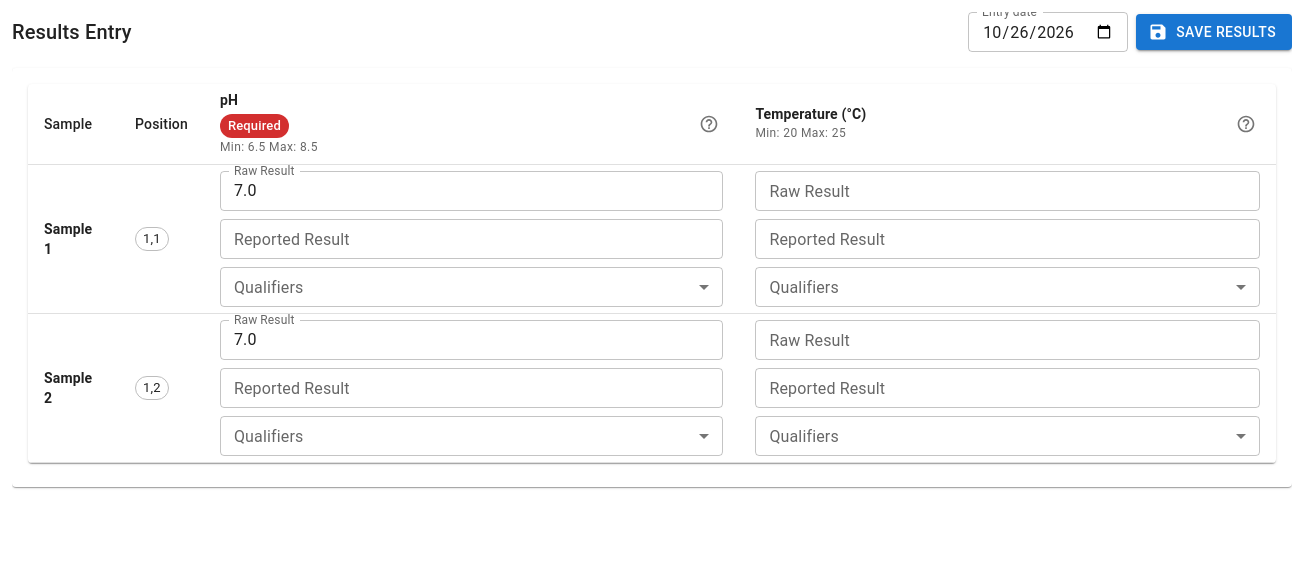
Scenario: ResultsEntryTable › handles API errors gracefully
Expected: the text "pH" is shown, [220, 92, 238, 108]
Click the button "Save Results".
click(1214, 32)  # box [1136, 14, 1292, 50]
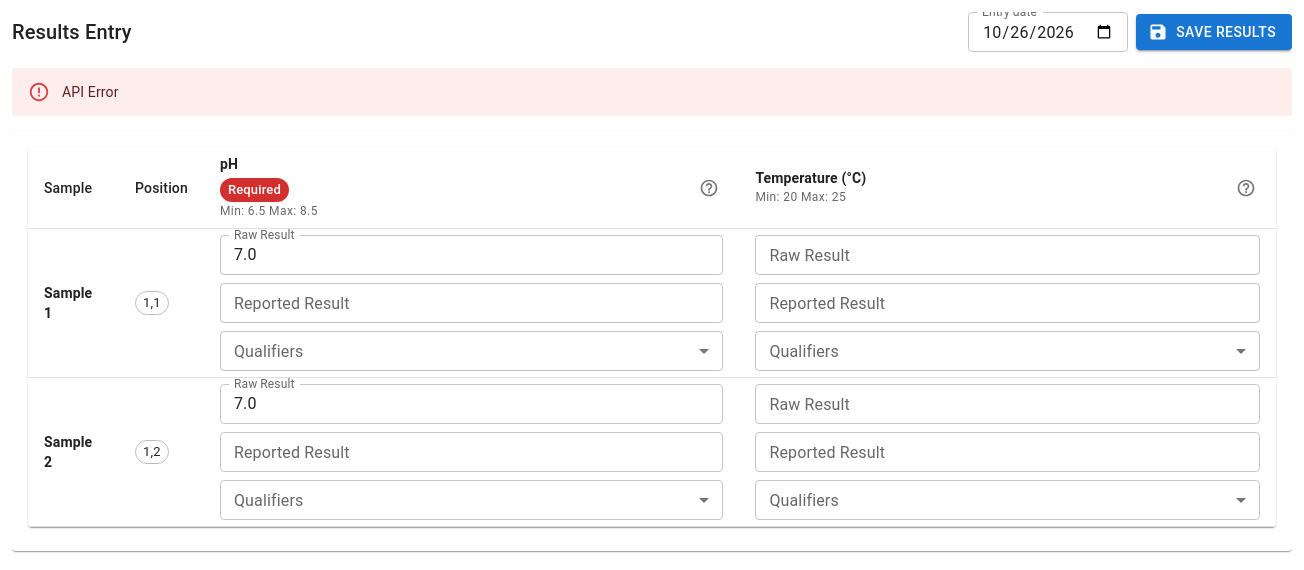
Expected: the text "API Error" is shown, [62, 84, 119, 100]
